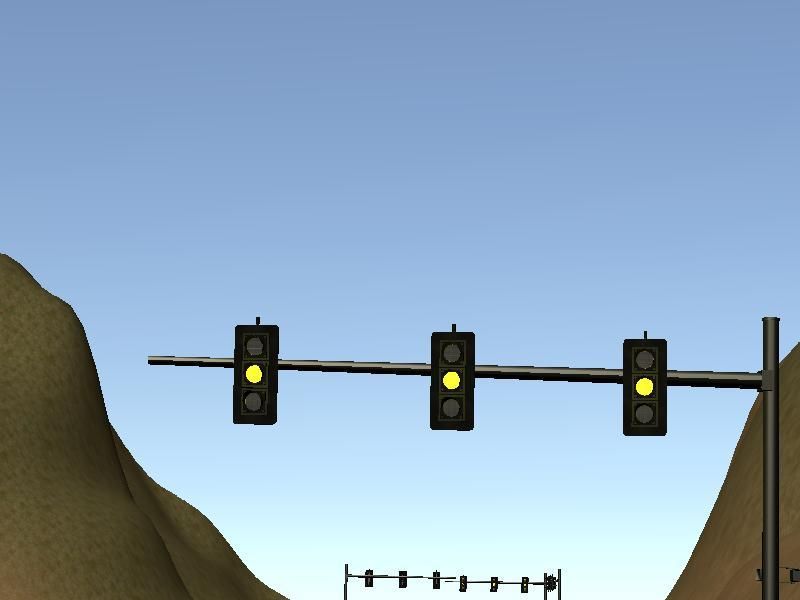Yellow: (430, 332, 474, 430), (622, 340, 667, 435), (233, 324, 276, 423)
